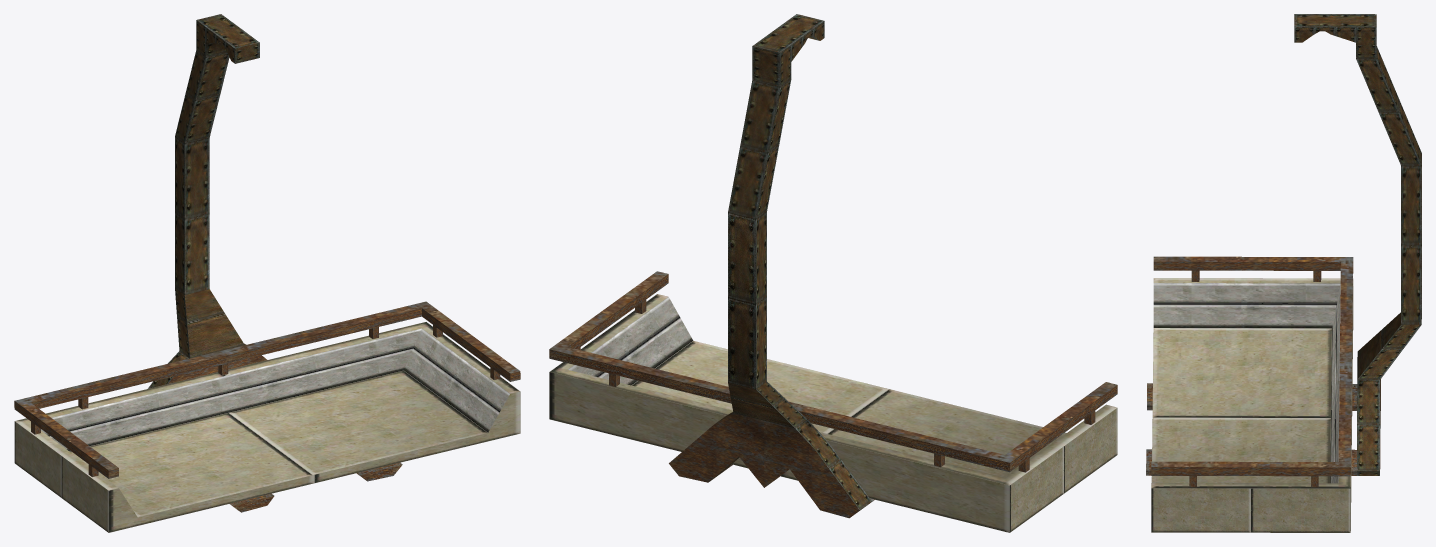
The model's file is DWARF_PALACE_GONDOLA.fbx.
3 renders of one model, left to right at view 1: azimuth 30°, elevation 25°; view 2: azimuth 150°, elevation 25°; view 3: azimuth 270°, elevation 25°, orthographic. The views are drawn at different scales.
Parts seen in each view (by area): view 1: DWARF_PALACE_GONDOLA; view 2: DWARF_PALACE_GONDOLA; view 3: DWARF_PALACE_GONDOLA.
Part boxes in pixels (x1=…): DWARF_PALACE_GONDOLA: x1=14, y1=14, x2=520, y2=532; DWARF_PALACE_GONDOLA: x1=549, y1=14, x2=1117, y2=532; DWARF_PALACE_GONDOLA: x1=1146, y1=14, x2=1421, y2=532.
Size of the model in its own units: 49502 by 45622 by 27373.
4 materials, 4 textured.
